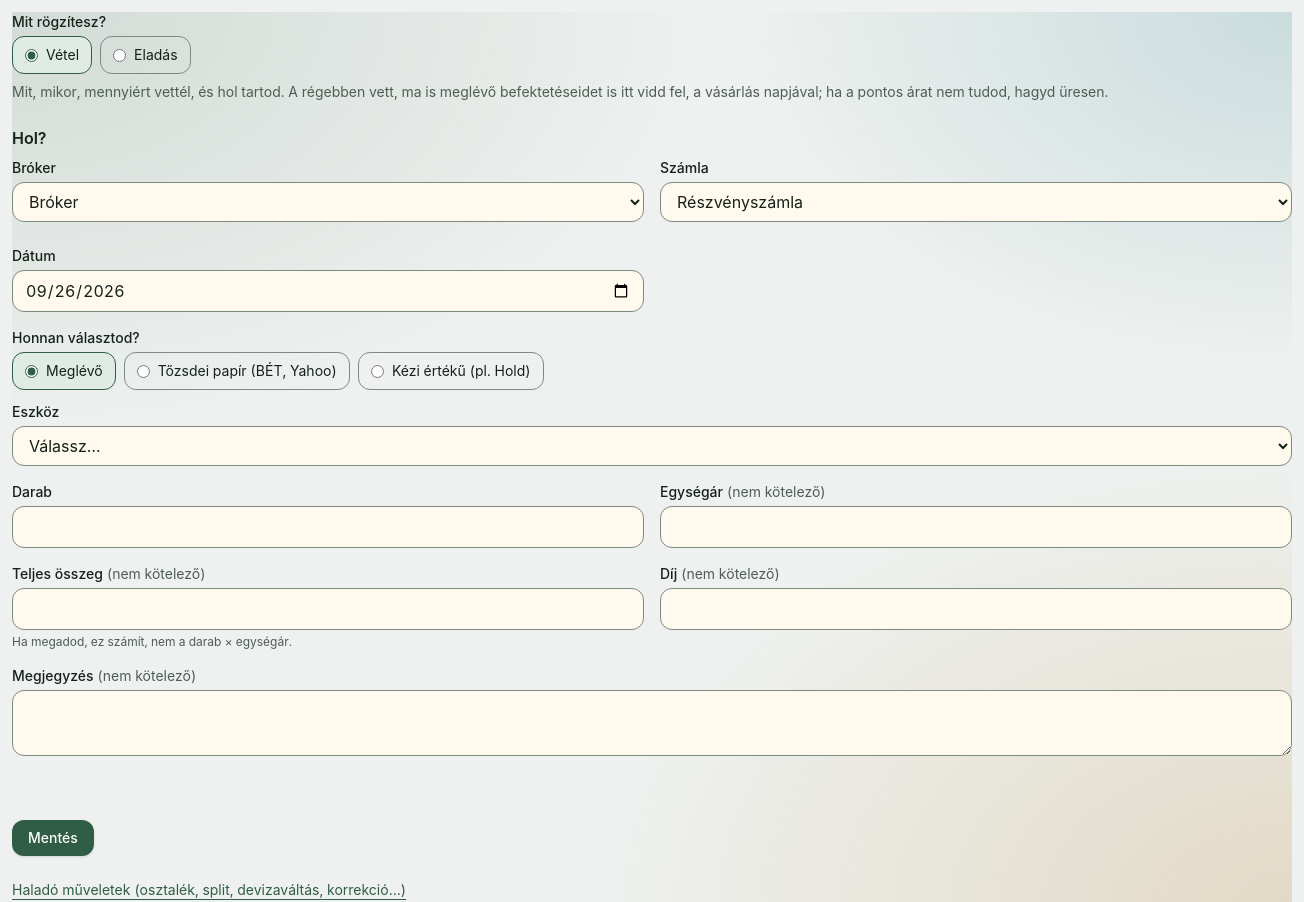
EntryForm – Vétel and Eladás (4c plan §2, without the Mai állomány tab since 2026-09-27) › a BÉT paper already there looks its close up on the BÉT, and says so (#45)
Select "Richter · HUF" in the dropdown labelled "Eszköz" at (652, 446), box [12,426,1292,466]
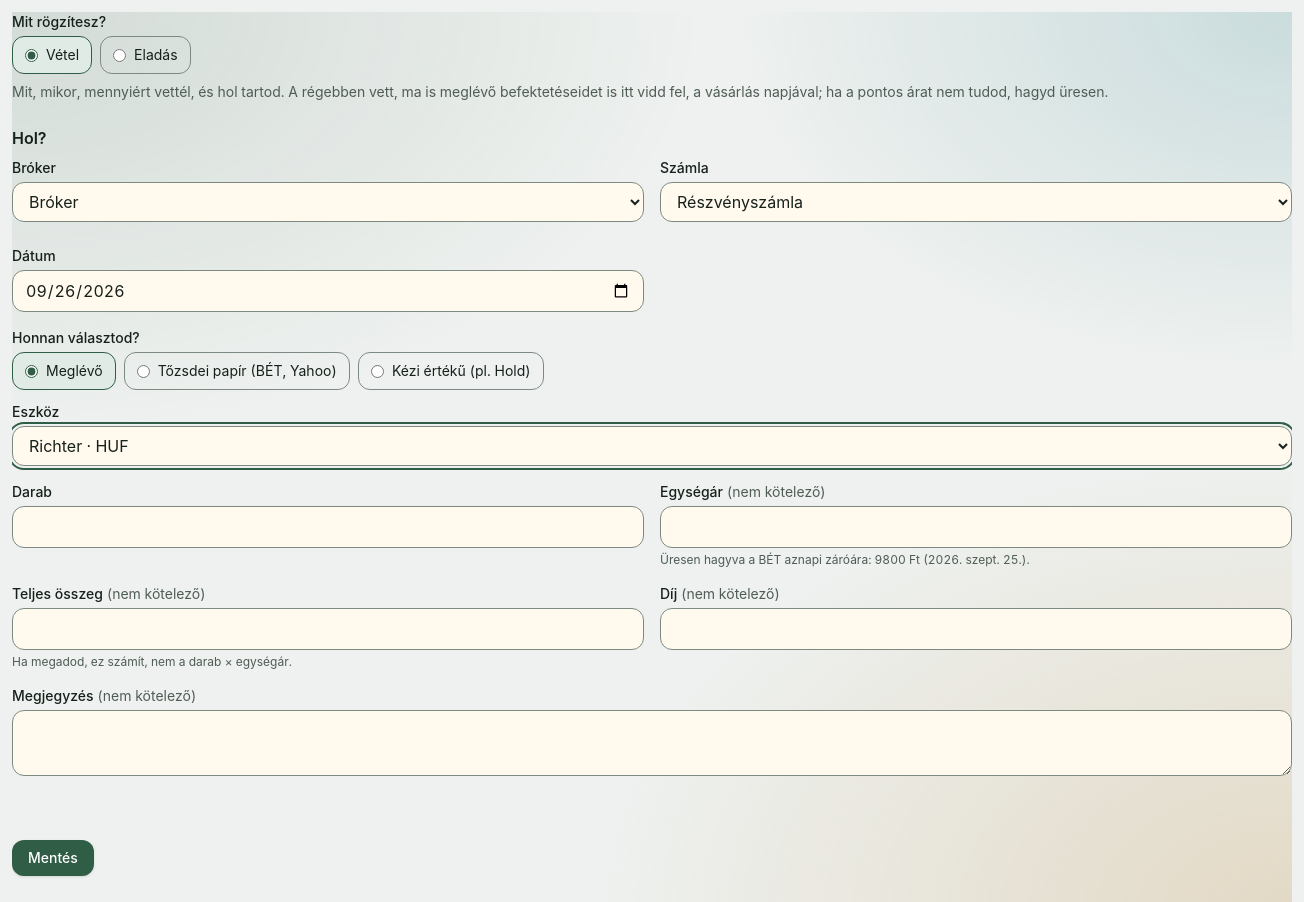
Result: the text "Üresen hagyva a BÉT aznapi záróára: 9800 Ft (2026. szept. 25.)" is shown at [660,552,1030,567]
